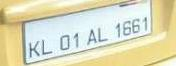0: (59, 32, 72, 52)
1: (113, 21, 122, 39), (72, 32, 81, 48), (141, 16, 149, 33)
6: (130, 18, 141, 35), (122, 19, 132, 37)
A: (86, 27, 98, 45)
K: (27, 39, 40, 58)
L: (41, 37, 53, 56), (97, 27, 109, 43)
